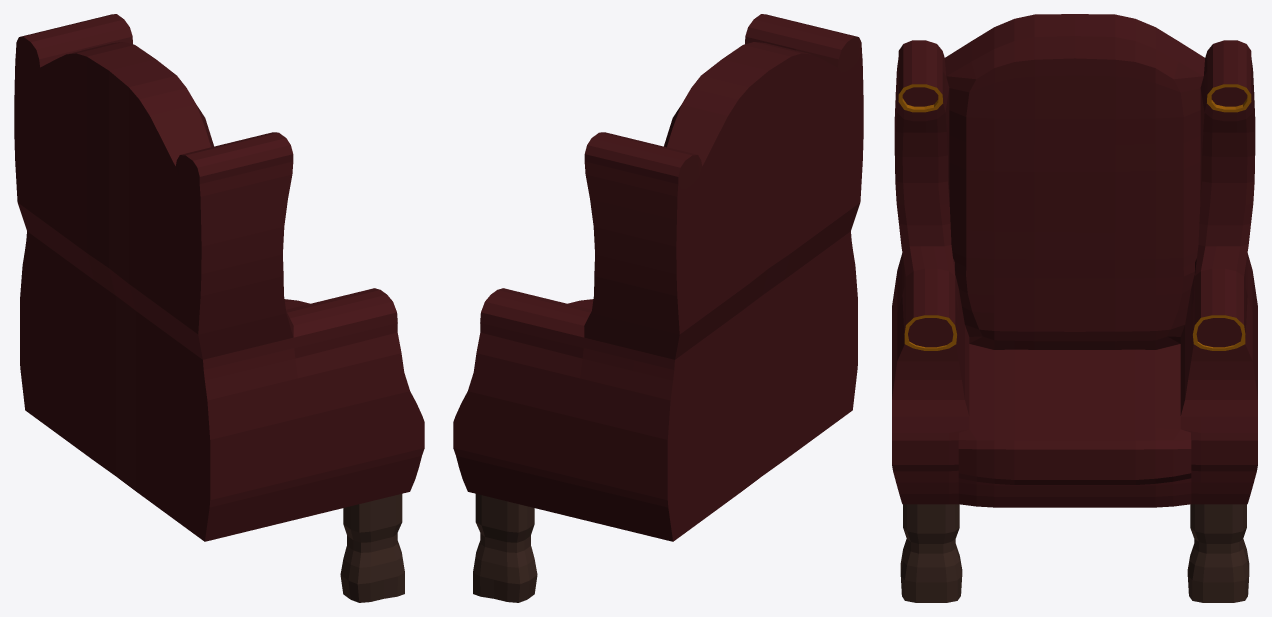
Rendered from styl.fbx.
3 renders of one model, left to right at view 1: azimuth 30°, elevation 25°; view 2: azimuth 150°, elevation 25°; view 3: azimuth 270°, elevation 25°, orthographic. The views are drawn at different scales.
Parts seen in each view (by area): view 1: Куб; view 2: Куб; view 3: Куб.
Part boxes in pixels (<box>): Куб: <box>14,14,424,602</box>; Куб: <box>453,14,863,602</box>; Куб: <box>892,14,1257,602</box>.
Size of the model in its own units: 16.61 by 31.84 by 21.57.
